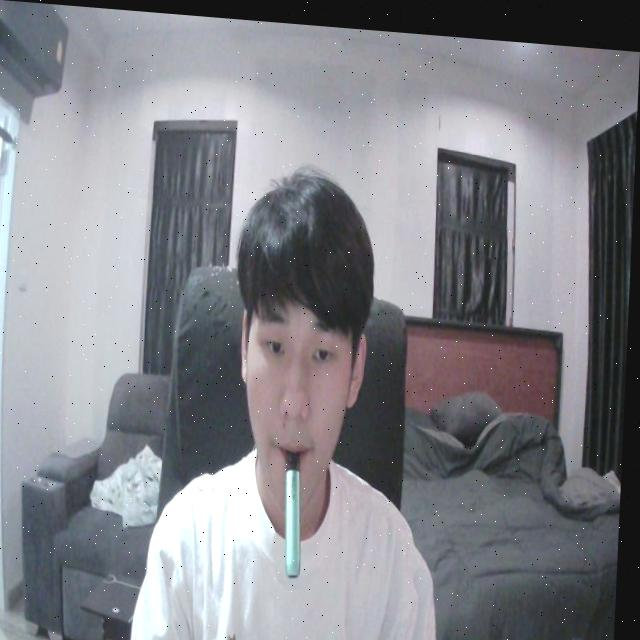vape: (286, 446, 310, 572)
